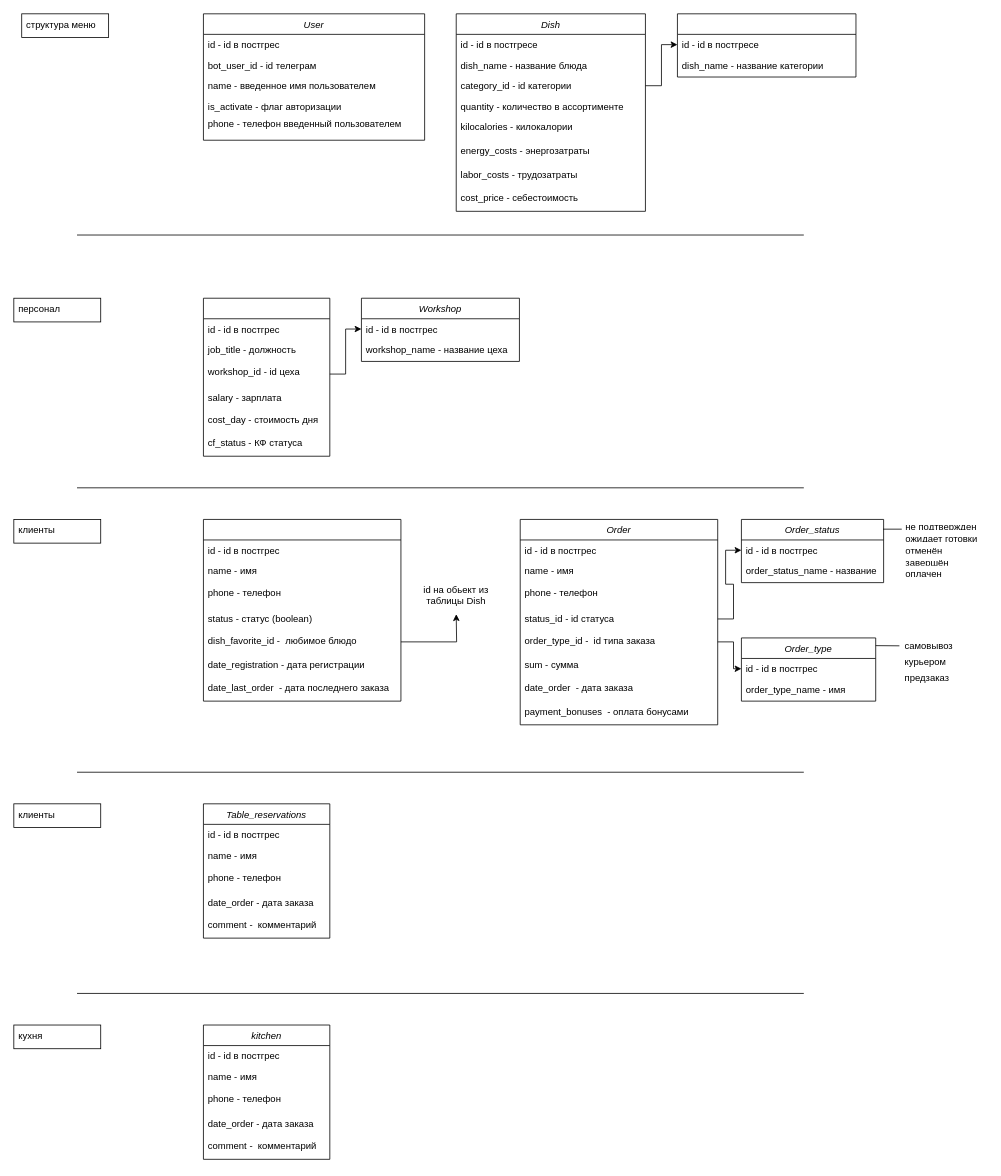
The diagram is 1001 pixels wide and 1176 high, and some of its shapes have lost their labels. Each missing label, with the box of its shape:
categories_dishes: (677, 13, 856, 77)
Client: (203, 519, 401, 701)
Staff: (203, 297, 330, 456)
